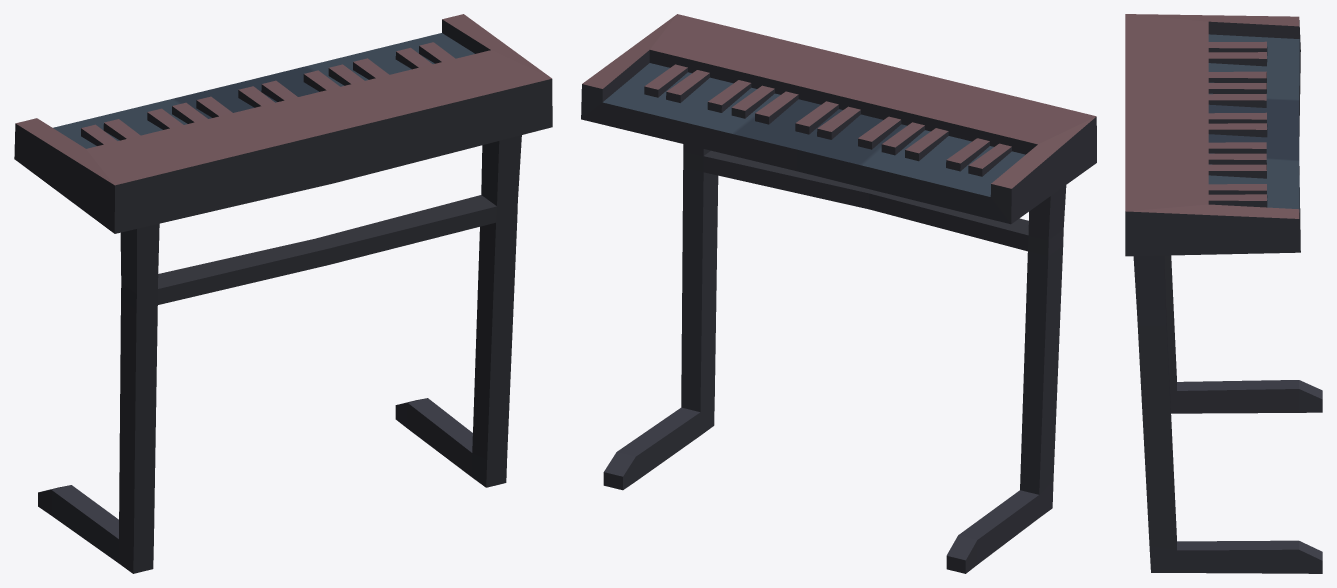
The model's file is CMS_InstrumentKeyboard.fbx.
The picture shows the model from 3 angles, left to right: view 1: azimuth 30°, elevation 25°; view 2: azimuth 150°, elevation 25°; view 3: azimuth 270°, elevation 25°; orthographic projection. The views are drawn at different scales.
Visible parts, largest first — view 1: InstrumentKeyboard; view 2: InstrumentKeyboard; view 3: InstrumentKeyboard.
Boxes of the visible parts, x1,y1,x2,y2 form: InstrumentKeyboard: (14, 14, 552, 573); InstrumentKeyboard: (581, 14, 1096, 573); InstrumentKeyboard: (1125, 14, 1322, 573).
Bounding box in the file's own units: 629 × 545 × 259.
